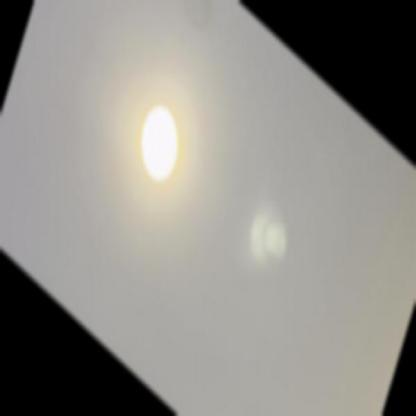light_on: (120, 66, 200, 216)
